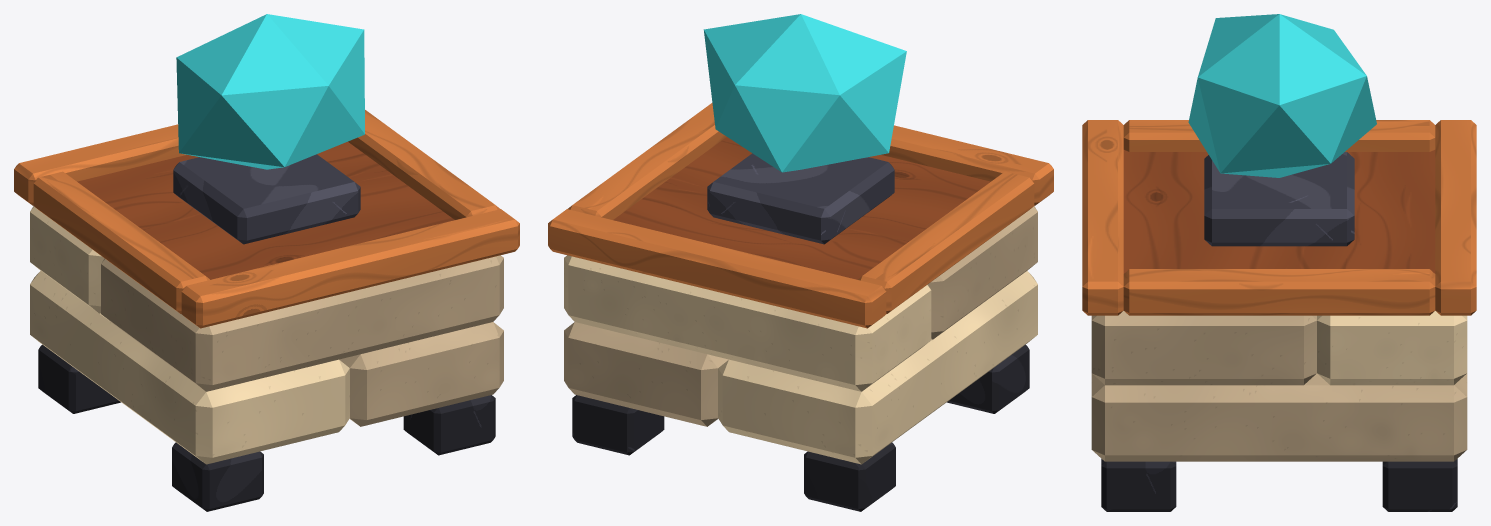
Rendered from OreStand_Textured.fbx.
3 renders of one model, left to right at view 1: azimuth 30°, elevation 25°; view 2: azimuth 150°, elevation 25°; view 3: azimuth 270°, elevation 25°, orthographic. The views are drawn at different scales.
Visible parts, largest first — view 1: OreStand_Textured_cream_dk, OreStand_Textured_wood, OreStand_Textured_cream, Ore.002, OreStand_Textured_wood_dk, OreStand_Textured_iron, OreStand_Textured_iron_dk; view 2: OreStand_Textured_cream, OreStand_Textured_wood, Ore.002, OreStand_Textured_cream_dk, OreStand_Textured_wood_dk, OreStand_Textured_iron, OreStand_Textured_iron_dk; view 3: OreStand_Textured_cream_dk, OreStand_Textured_wood, Ore.002, OreStand_Textured_wood_dk, OreStand_Textured_iron, OreStand_Textured_cream, OreStand_Textured_iron_dk.
Part boxes in pixels (box(x1,y1,x2,y2)): OreStand_Textured_cream_dk: box(101, 255, 503, 426); OreStand_Textured_wood: box(14, 110, 519, 328); OreStand_Textured_cream: box(30, 206, 349, 464); Ore.002: box(176, 14, 364, 169); OreStand_Textured_wood_dk: box(77, 141, 454, 279); OreStand_Textured_iron: box(173, 154, 360, 244); OreStand_Textured_iron_dk: box(38, 344, 495, 511); OreStand_Textured_cream: box(564, 255, 1037, 464); OreStand_Textured_wood: box(548, 103, 1053, 328); Ore.002: box(703, 14, 906, 172); OreStand_Textured_cream_dk: box(564, 206, 1037, 426); OreStand_Textured_wood_dk: box(613, 137, 990, 279); OreStand_Textured_iron: box(707, 153, 894, 244); OreStand_Textured_iron_dk: box(572, 344, 1029, 511); OreStand_Textured_cream_dk: box(1091, 311, 1467, 461); OreStand_Textured_wood: box(1082, 120, 1476, 315); Ore.002: box(1188, 14, 1376, 177); OreStand_Textured_wood_dk: box(1123, 150, 1435, 273); OreStand_Textured_iron: box(1204, 152, 1354, 246); OreStand_Textured_cream: box(1317, 311, 1467, 385); OreStand_Textured_iron_dk: box(1101, 459, 1457, 511).
Size of the model in its own units: 210 by 250 by 210.
7 materials, 6 textured.
